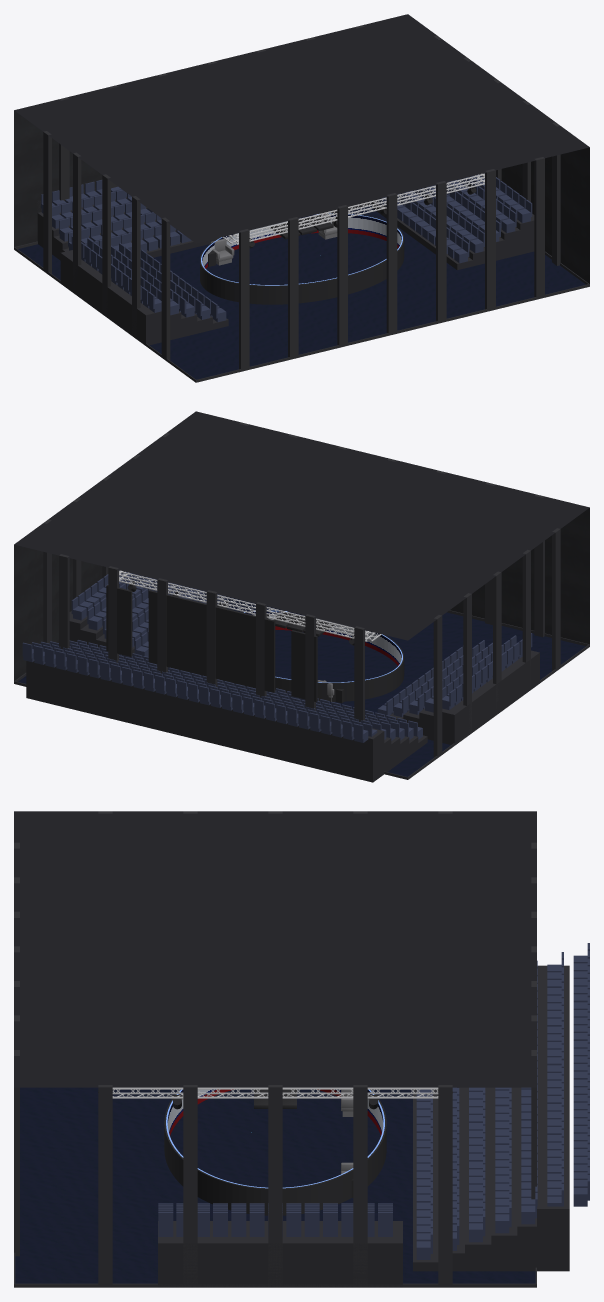
File: room_blue.glb
3 renders of one model, top to bottom at view 1: azimuth 30°, elevation 25°; view 2: azimuth 150°, elevation 25°; view 3: azimuth 270°, elevation 25°, orthographic. The views are drawn at different scales.
Visible parts, largest first — view 1: Room_Ceiling, Room, Room_Detail, Lamp; view 2: Room_Ceiling, Room, Room_Detail, Lamp; view 3: Room_Ceiling, Room, Room_Detail.
Boxes of the visible parts, box(x1,y1,x2,y2) form: Room_Ceiling: box(14, 14, 589, 243); Room: box(14, 25, 589, 382); Room_Detail: box(41, 173, 532, 322); Lamp: box(270, 215, 333, 239); Room_Ceiling: box(14, 411, 589, 640); Room: box(14, 422, 589, 782); Room_Detail: box(22, 570, 532, 742); Lamp: box(274, 612, 333, 636); Room_Ceiling: box(14, 811, 536, 1087); Room: box(14, 811, 569, 1287); Room_Detail: box(98, 943, 589, 1259).
Size of the model in its own units: 20 by 6.76 by 17.62.
19 materials, 5 textured.
